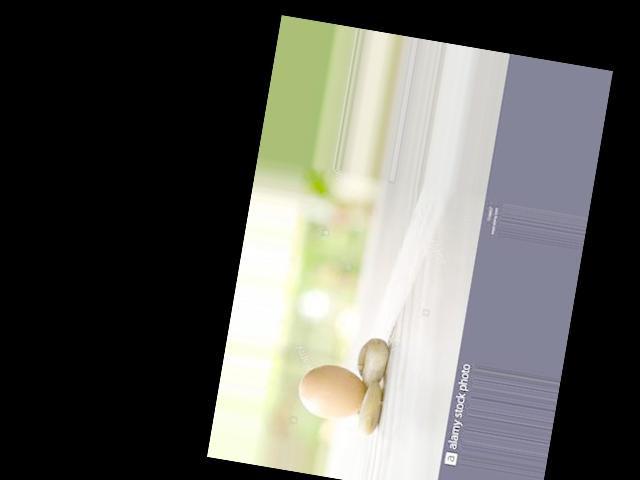egg: (296, 359, 368, 424)
